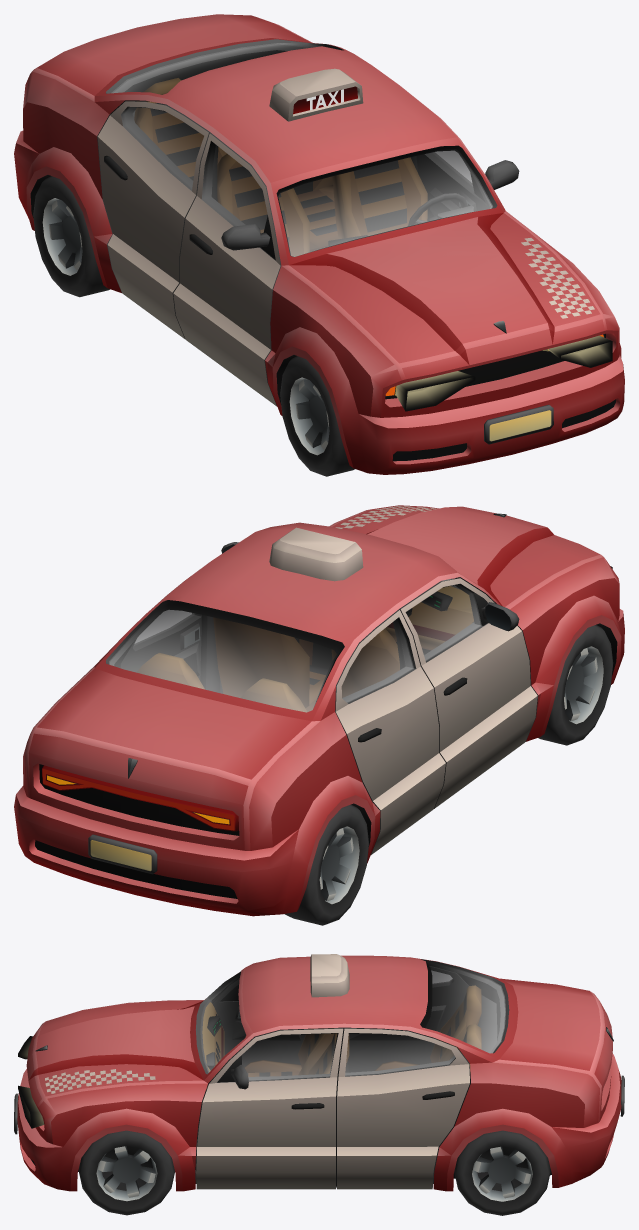
File: tp_taxi_01c.glb
3 renders of one model, top to bottom at view 1: azimuth 30°, elevation 25°; view 2: azimuth 150°, elevation 25°; view 3: azimuth 270°, elevation 25°, orthographic. The views are drawn at different scales.
Visible parts, largest first — view 1: TP_Taxi_01C_Body, TP_Taxi_01C_Door_F.R, TP_Taxi_01C_Door_R.R, TP_Taxi_01C_Wheel_R.R, TP_Taxi_01C_Wheel_F.R, TP_Taxi_01C_Door_F.L, TP_Taxi_01C_Headlights; view 2: TP_Taxi_01C_Body, TP_Taxi_01C_Door_F.R, TP_Taxi_01C_Door_R.R, TP_Taxi_01C_Wheel_R.R, TP_Taxi_01C_Wheel_F.R, TP_Taxi_01C_Door_R.L, TP_Taxi_01C_Taillights; view 3: TP_Taxi_01C_Body, TP_Taxi_01C_Door_F.L, TP_Taxi_01C_Door_R.L, TP_Taxi_01C_Wheel_R.L, TP_Taxi_01C_Wheel_F.L, TP_Taxi_01C_Door_R.R, TP_Taxi_01C_Door_F.R, TP_Taxi_01C_Headlights.
Boxes of the visible parts, <box> form: TP_Taxi_01C_Body: <box>14,14,624,474</box>; TP_Taxi_01C_Door_F.R: <box>173,133,281,406</box>; TP_Taxi_01C_Door_R.R: <box>97,101,211,338</box>; TP_Taxi_01C_Wheel_R.R: <box>33,176,109,297</box>; TP_Taxi_01C_Wheel_F.R: <box>280,356,354,476</box>; TP_Taxi_01C_Door_F.L: <box>416,151,519,220</box>; TP_Taxi_01C_Headlights: <box>396,335,612,411</box>; TP_Taxi_01C_Body: <box>14,505,624,916</box>; TP_Taxi_01C_Door_F.R: <box>399,578,537,808</box>; TP_Taxi_01C_Door_R.R: <box>335,609,445,854</box>; TP_Taxi_01C_Wheel_R.R: <box>284,804,368,925</box>; TP_Taxi_01C_Wheel_F.R: <box>538,625,613,745</box>; TP_Taxi_01C_Door_R.L: <box>120,610,201,680</box>; TP_Taxi_01C_Taillights: <box>42,769,234,830</box>; TP_Taxi_01C_Body: <box>14,954,624,1191</box>; TP_Taxi_01C_Door_F.L: <box>195,1028,343,1189</box>; TP_Taxi_01C_Door_R.L: <box>336,1028,470,1189</box>; TP_Taxi_01C_Wheel_R.L: <box>454,1130,550,1215</box>; TP_Taxi_01C_Wheel_F.L: <box>79,1130,174,1215</box>; TP_Taxi_01C_Door_R.R: <box>348,966,468,1072</box>; TP_Taxi_01C_Door_F.R: <box>212,979,307,1066</box>; TP_Taxi_01C_Headlights: <box>18,1036,44,1128</box>.
Bounding box in the file's own units: 2.12 × 1.81 × 4.99.
3 materials, 3 textured.
